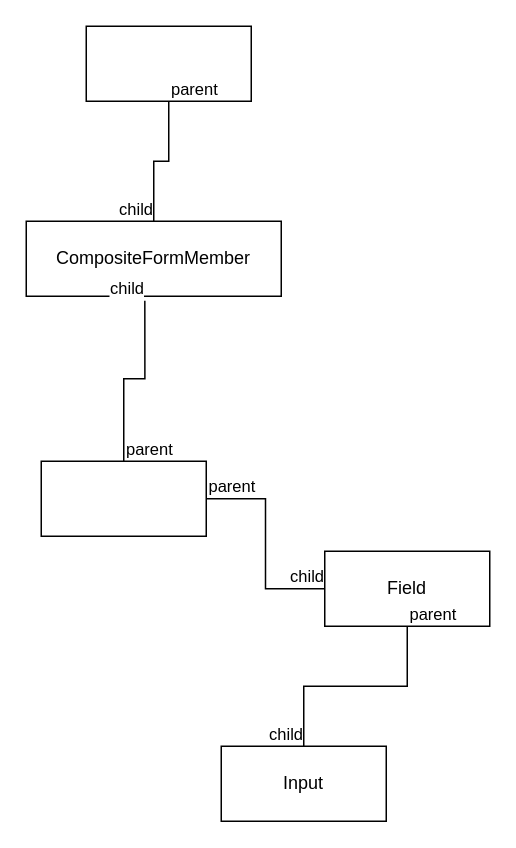
This 516x848 diagram has some shape labels left out. Here are the shapes that lost their labels. From the top down, the centre of each, then its label:
point (168, 63): CompositeForm
point (123, 498): Form
